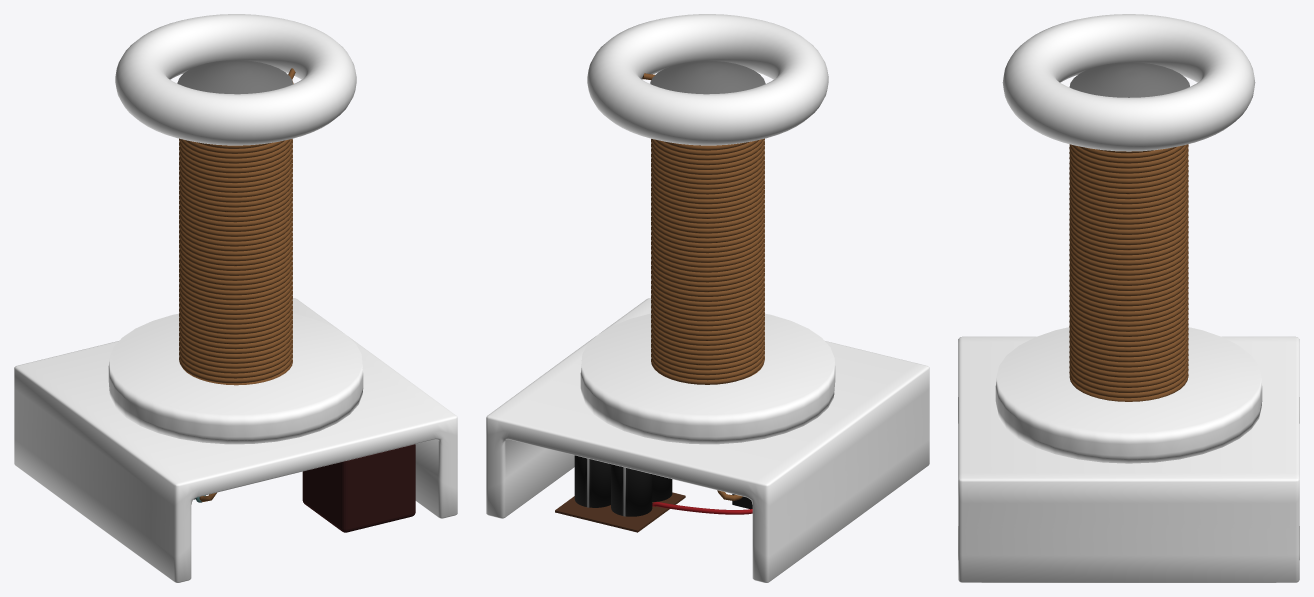
Rendered from TeslaCoil.glb.
The picture shows the model from 3 angles, left to right: view 1: azimuth 30°, elevation 25°; view 2: azimuth 150°, elevation 25°; view 3: azimuth 270°, elevation 25°; orthographic projection. The views are drawn at different scales.
Visible parts, largest first — view 1: stand, secondary coil, Torus.001, cover, battery, cap; view 2: stand, secondary coil, Torus.001, cover, cap, Cylinder.002, base, Cylinder.001; view 3: stand, secondary coil, Torus.001, cover, cap.
Part boxes in pixels (x1=…): stand: x1=14, y1=298, x2=457, y2=582; secondary coil: x1=179, y1=68, x2=295, y2=385; Torus.001: x1=115, y1=14, x2=356, y2=145; cover: x1=108, y1=313, x2=363, y2=444; battery: x1=302, y1=444, x2=415, y2=532; cap: x1=177, y1=60, x2=292, y2=94; stand: x1=486, y1=298, x2=929, y2=582; secondary coil: x1=642, y1=73, x2=764, y2=500; Torus.001: x1=587, y1=14, x2=828, y2=145; cover: x1=580, y1=313, x2=835, y2=444; cap: x1=650, y1=60, x2=765, y2=94; Cylinder.002: x1=611, y1=464, x2=652, y2=516; base: x1=555, y1=492, x2=685, y2=532; Cylinder.001: x1=574, y1=455, x2=610, y2=507; stand: x1=958, y1=336, x2=1299, y2=582; secondary coil: x1=1069, y1=144, x2=1188, y2=401; Torus.001: x1=1002, y1=14, x2=1255, y2=151; cover: x1=995, y1=327, x2=1262, y2=463; cap: x1=1069, y1=62, x2=1189, y2=97.
Bounding box in the file's own units: 6.84 × 10.07 × 6.83.
